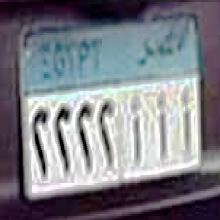2: (98, 99, 118, 169), (54, 105, 74, 174), (30, 107, 50, 176), (76, 102, 95, 173)
alif: (154, 91, 170, 162), (129, 94, 142, 167), (181, 89, 192, 154)
